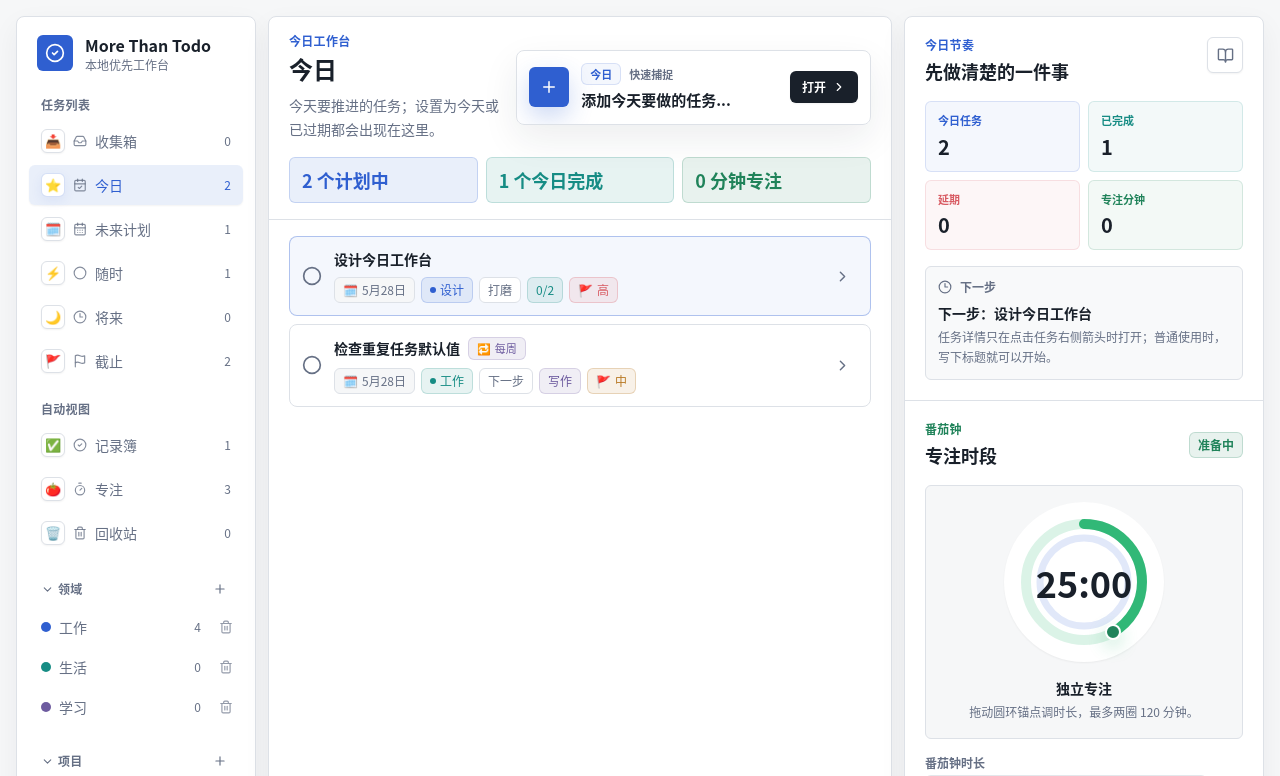
it: More Than Todo app › opens today's read-only task preview when entering Upcoming
What coordinates should you click on to do the following:
click the button "🗓️ 未来计划 1"
I would click on:
 (136, 229)
Its box is top-left (29, 209), bottom-right (243, 249).
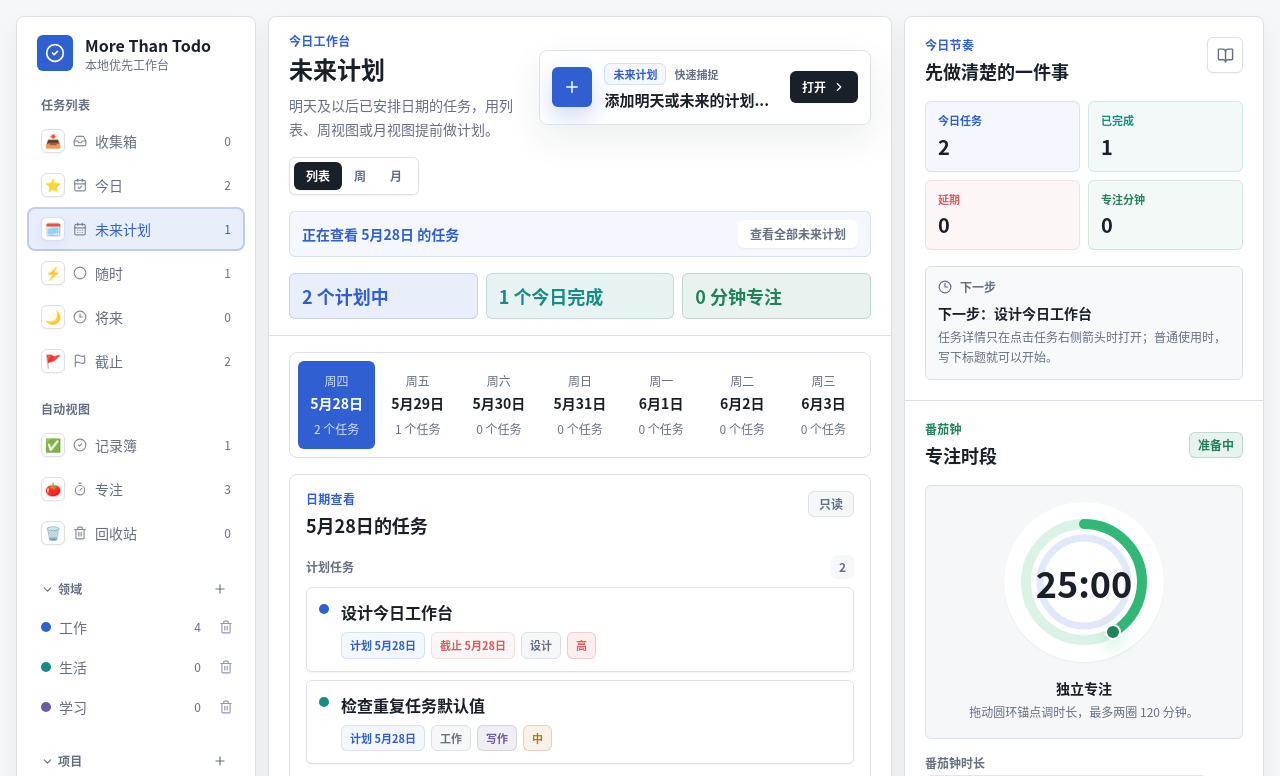
Expected: the text "设计今日工作台" is shown, top-left (341, 600), bottom-right (453, 624)
Expected: the heading "5月28日的任务" is shown, top-left (306, 511), bottom-right (428, 539)
